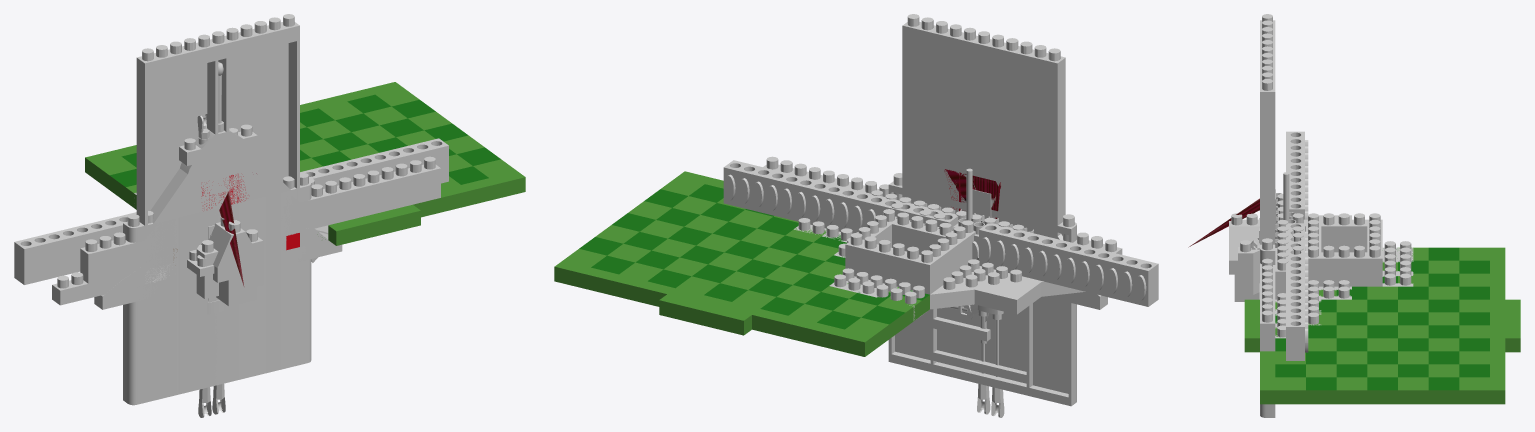
The model's file is types.glb.
The picture shows the model from 3 angles, left to right: view 1: azimuth 30°, elevation 25°; view 2: azimuth 150°, elevation 25°; view 3: azimuth 270°, elevation 25°; orthographic projection. The views are drawn at different scales.
Visible parts, largest first — view 1: field-tile, 1x10x12-wall, 1x10x12-wall~m, 1x6x15-wall, 1x6x15-wall~m, 1x12x3-dots~m, 1x4x9-rounded-roof~m, 1x4x9-rounded-roof, 1x8x1-roof~m, 1x14x3, 1x16x3, 1x10x3#2~m (+18 smaller); view 2: field-tile, 1x6x15-wall~m, 1x6x15-wall, 1x10x12-wall, 1x12x3-dots~m, 6x8x3-hole, 1x10x12-wall~m, 1x16x3-dots, 1x12x3-dots, 8x8x1-triangle~m, 1x4x3-holes~m, 1x4x9-rounded-roof~m (+13 smaller); view 3: field-tile, 6x8x3-hole, 1x6x15-wall, 1x12x3-dots~m, 1x16x3-dots, 6x10x1, 4x4x3-stairs, 2x4x3-roof, 1x12x3-dots, 1x16x3, 4x4x3-hole, 1x6x15-wall~m (+8 smaller).
Boxes of the visible parts, x1=… form: field-tile: x1=85, y1=82, x2=525, y2=245; 1x10x12-wall: x1=123, y1=196, x2=265, y2=405; 1x10x12-wall~m: x1=178, y1=173, x2=311, y2=394; 1x6x15-wall: x1=207, y1=14, x2=299, y2=219; 1x6x15-wall~m: x1=136, y1=32, x2=229, y2=263; 1x12x3-dots~m: x1=14, y1=214, x2=136, y2=284; 1x4x9-rounded-roof~m: x1=173, y1=131, x2=229, y2=245; 1x4x9-rounded-roof: x1=215, y1=130, x2=268, y2=207; 1x8x1-roof~m: x1=116, y1=122, x2=227, y2=291; 1x14x3: x1=282, y1=163, x2=412, y2=246; 1x16x3: x1=291, y1=156, x2=440, y2=217; 1x10x3#2~m: x1=81, y1=236, x2=168, y2=297; field-tile: x1=554, y1=171, x2=929, y2=356; 1x6x15-wall~m: x1=973, y1=32, x2=1065, y2=238; 1x6x15-wall: x1=902, y1=14, x2=992, y2=197; 1x10x12-wall: x1=930, y1=201, x2=1076, y2=406; 1x12x3-dots~m: x1=1016, y1=236, x2=1158, y2=306; 6x8x3-hole: x1=845, y1=215, x2=975, y2=294; 1x10x12-wall~m: x1=888, y1=173, x2=1032, y2=387; 1x16x3-dots: x1=723, y1=160, x2=870, y2=233; 1x12x3-dots: x1=780, y1=174, x2=958, y2=231; 8x8x1-triangle~m: x1=930, y1=265, x2=1085, y2=309; 1x4x3-holes~m: x1=979, y1=223, x2=1045, y2=279; 1x4x9-rounded-roof~m: x1=973, y1=131, x2=1027, y2=231; field-tile: x1=1244, y1=247, x2=1520, y2=404; 6x8x3-hole: x1=1275, y1=213, x2=1382, y2=286; 1x6x15-wall: x1=1260, y1=46, x2=1275, y2=244; 1x12x3-dots~m: x1=1286, y1=131, x2=1308, y2=219; 1x16x3-dots: x1=1286, y1=263, x2=1308, y2=360; 6x10x1: x1=1382, y1=241, x2=1413, y2=286; 4x4x3-stairs: x1=1238, y1=237, x2=1259, y2=294; 2x4x3-roof: x1=1229, y1=213, x2=1259, y2=274; 1x12x3-dots: x1=1286, y1=225, x2=1308, y2=309; 1x16x3: x1=1260, y1=264, x2=1275, y2=351; 4x4x3-hole: x1=1292, y1=213, x2=1321, y2=244; 1x6x15-wall~m: x1=1260, y1=14, x2=1275, y2=59.
Size of the model in its own units: 69.11 by 51.45 by 43.46.
9 materials, 1 textured.
